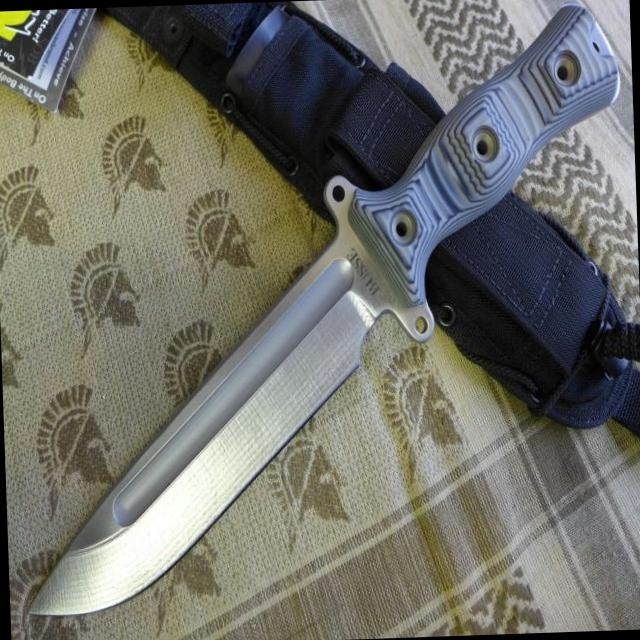Knife: (30, 6, 618, 615)
